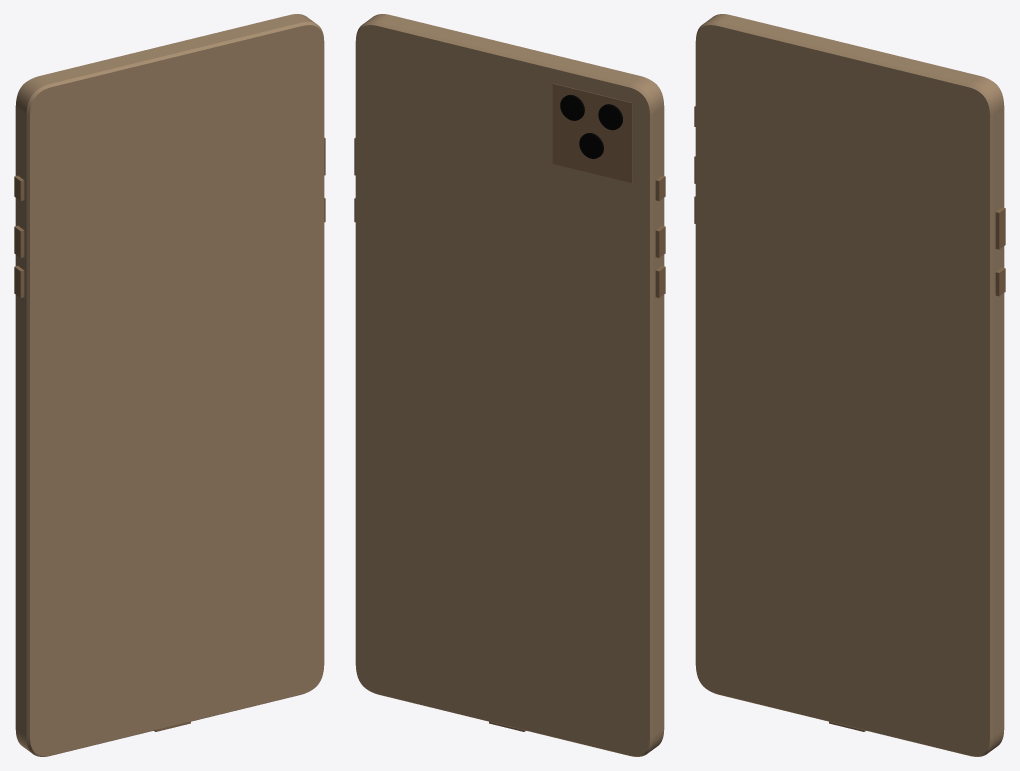
The model's file is apple-iphone-16-pro-max.glb.
3 renders of one model, left to right at view 1: azimuth 30°, elevation 25°; view 2: azimuth 150°, elevation 25°; view 3: azimuth 330°, elevation 25°, orthographic.
Parts seen in each view (by area): view 1: Body; view 2: Body, CameraIsland; view 3: Body.
Part boxes in pixels (box(x1,y1,x2,y2)): Body: box(15, 14, 324, 756); Body: box(355, 14, 664, 756); CameraIsland: box(552, 83, 632, 182); Body: box(695, 14, 1004, 756).
Size of the model in its own units: 0.1142 by 0.2418 by 0.0102.
